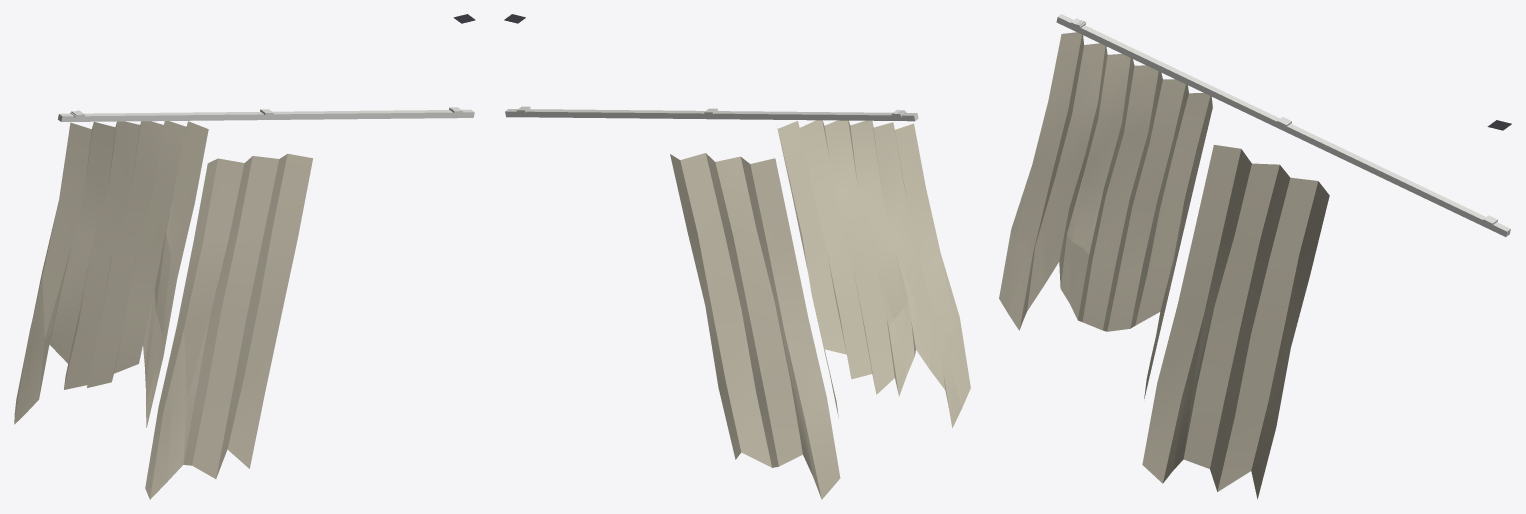
The model's file is curtain_rail_broken.fbx.
3 views of the same model, side by side, from view 1: azimuth 30°, elevation 25°; view 2: azimuth 150°, elevation 25°; view 3: azimuth 330°, elevation 25° (orthographic). The views are drawn at different scales.
Parts seen in each view (by area): view 1: curtain_rail_broken_cloth, curtain_rail_broken; view 2: curtain_rail_broken_cloth, curtain_rail_broken; view 3: curtain_rail_broken_cloth, curtain_rail_broken.
Boxes of the visible parts, x1,y1,x2,y2 form: curtain_rail_broken_cloth: [14, 121, 312, 499]; curtain_rail_broken: [58, 14, 475, 121]; curtain_rail_broken_cloth: [670, 120, 970, 499]; curtain_rail_broken: [504, 14, 918, 121]; curtain_rail_broken_cloth: [999, 32, 1329, 499]; curtain_rail_broken: [1056, 14, 1511, 236].
Bounding box in the file's own units: 263 × 222 × 13.48.
